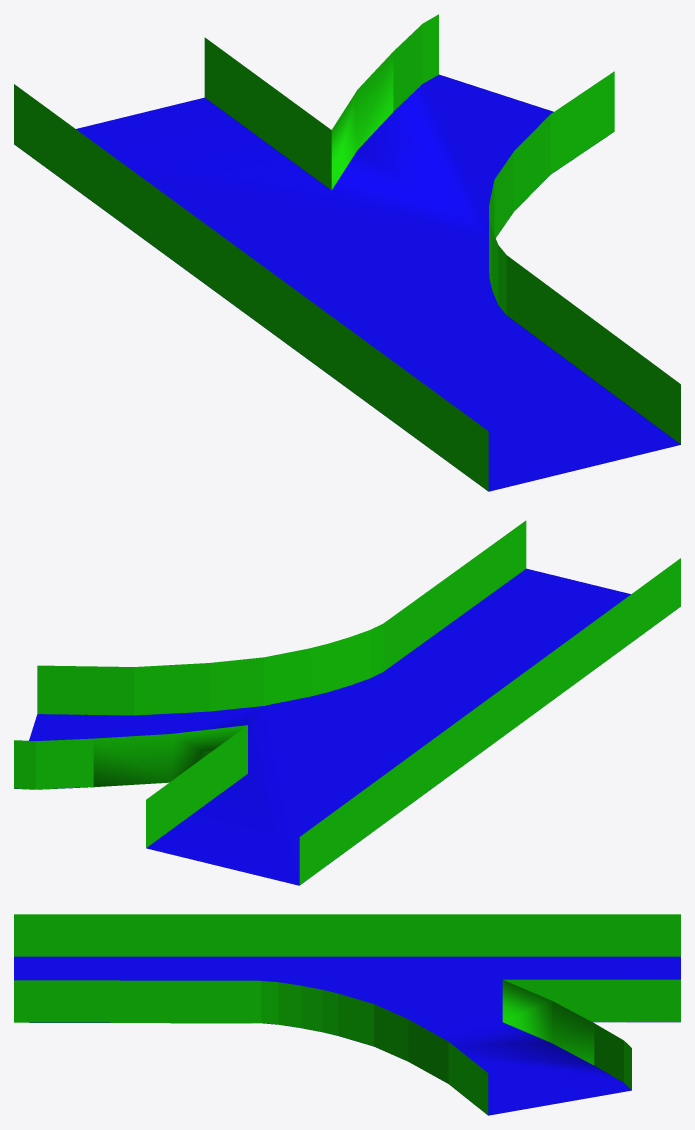
Rendered from Intersection2AvecMur.fbx.
The picture shows the model from 3 angles, top to bottom: view 1: azimuth 30°, elevation 25°; view 2: azimuth 150°, elevation 25°; view 3: azimuth 270°, elevation 25°; orthographic projection. The views are drawn at different scales.
Parts seen in each view (by area): view 1: svgMesh1.002; view 2: svgMesh1.002; view 3: svgMesh1.002.
Part boxes in pixels (x1=…): svgMesh1.002: x1=14, y1=14, x2=680, y2=491; svgMesh1.002: x1=14, y1=520, x2=680, y2=885; svgMesh1.002: x1=14, y1=914, x2=680, y2=1115.
Bounding box in the file's own units: 362 × 45.39 × 643.
